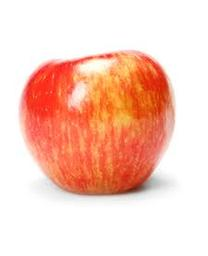apple: (17, 49, 176, 194)
